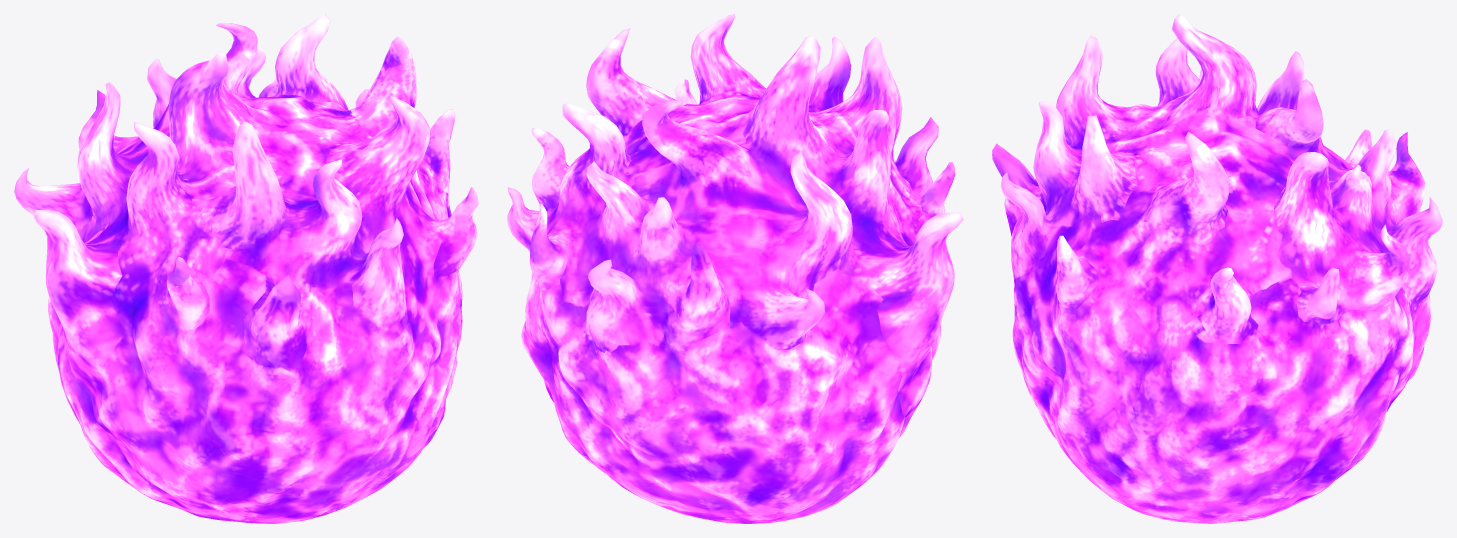
The model's file is MZ4250 - Flaming Sphere_purple.glb.
3 views of the same model, side by side, from view 1: azimuth 30°, elevation 25°; view 2: azimuth 150°, elevation 25°; view 3: azimuth 270°, elevation 25° (orthographic). The views are drawn at different scales.
Visible parts, largest first — view 1: ORGANIC BASE SPHERE.003; view 2: ORGANIC BASE SPHERE.003; view 3: ORGANIC BASE SPHERE.003.
Boxes of the visible parts, x1,y1,x2,y2 form: ORGANIC BASE SPHERE.003: [14, 14, 478, 523]; ORGANIC BASE SPHERE.003: [507, 14, 963, 523]; ORGANIC BASE SPHERE.003: [992, 14, 1442, 523].
Size of the model in its own units: 0.8524 by 0.9058 by 0.8049.
1 material, 1 textured.
